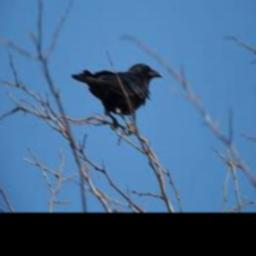Crow: (72, 62, 164, 129)
